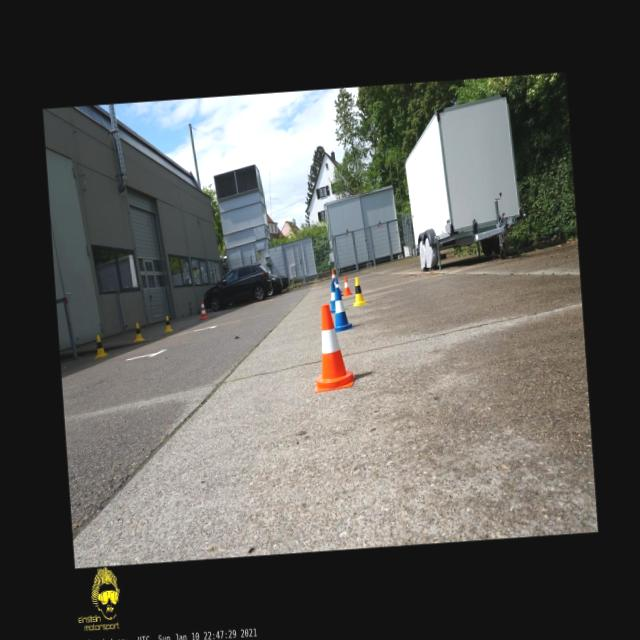blue_cone: (332, 286, 353, 332), (328, 280, 336, 312), (334, 278, 342, 296)
large_orange_cone: (331, 268, 342, 294), (198, 298, 208, 320)
orange_cone: (308, 302, 356, 392), (341, 274, 352, 295)
yellow_cone: (350, 276, 367, 306), (93, 334, 109, 359), (132, 322, 144, 343), (162, 315, 172, 332)
